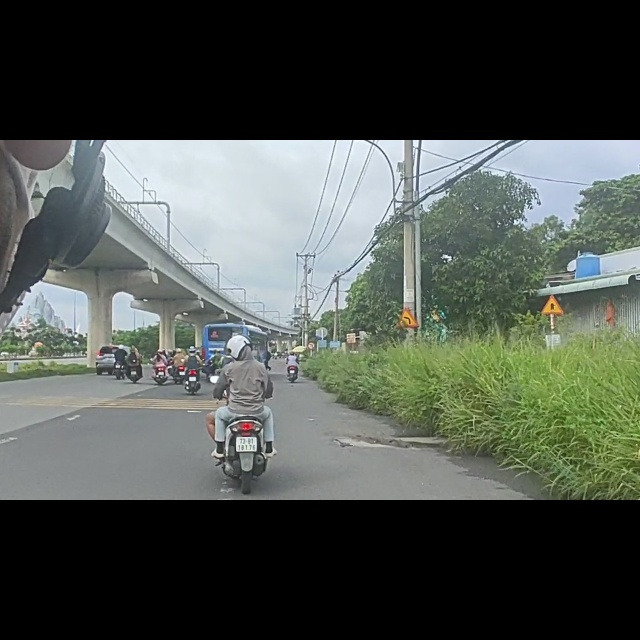bien_cam: (395, 296, 420, 334), (541, 275, 565, 311), (307, 357, 317, 372)
